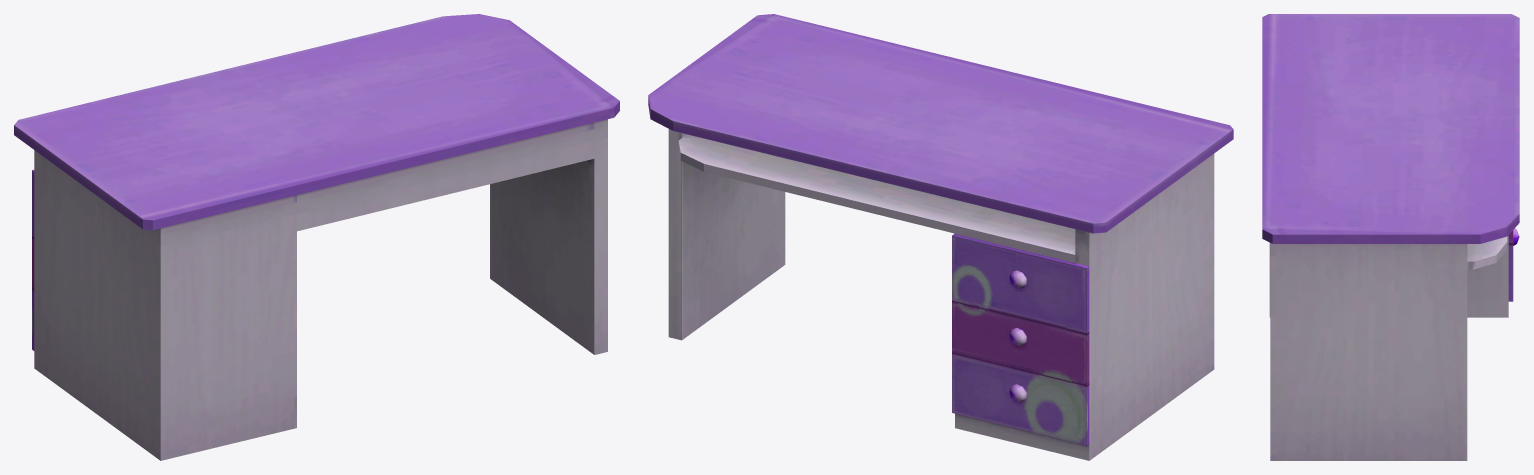
The model's file is furni_0200503_03.FBX.
3 views of the same model, side by side, from view 1: azimuth 30°, elevation 25°; view 2: azimuth 150°, elevation 25°; view 3: azimuth 270°, elevation 25° (orthographic). The views are drawn at different scales.
Parts seen in each view (by area): view 1: furni_0200503_03; view 2: furni_0200503_03; view 3: furni_0200503_03.
Part boxes in pixels (x1,y1,x2,y2): furni_0200503_03: (14,14,619,460); furni_0200503_03: (648,14,1233,460); furni_0200503_03: (1262,14,1519,460).
Size of the model in its own units: 158 by 77.65 by 77.88.
1 material, 1 textured.
